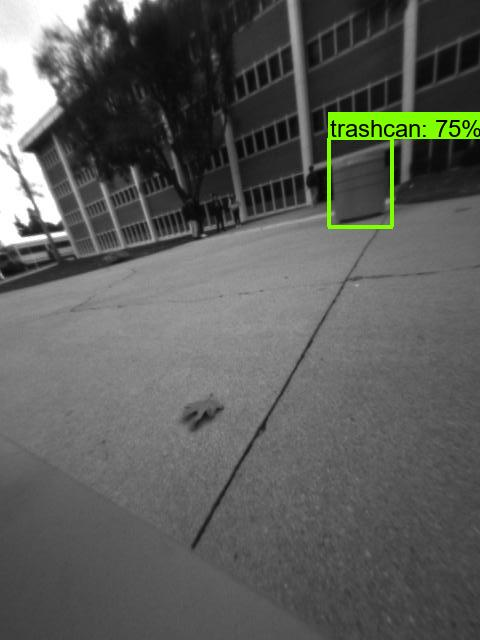trashcan: (330, 147, 389, 223)
